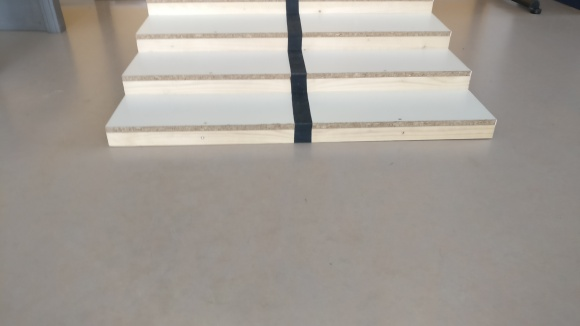stairs: (104, 1, 504, 148)
